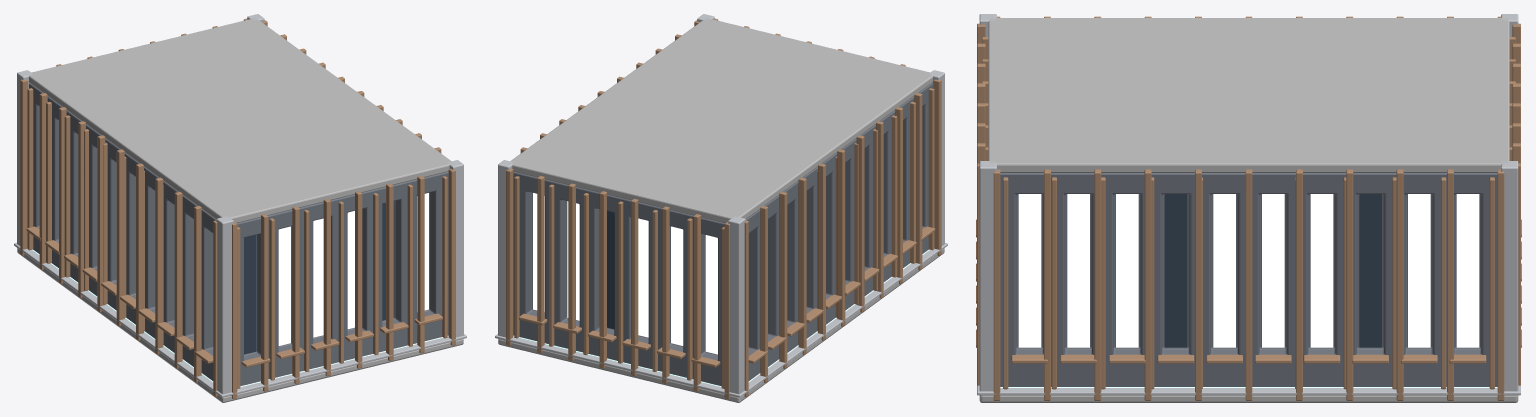
The model's file is deco_4x6.glb.
3 views of the same model, side by side, from view 1: azimuth 30°, elevation 25°; view 2: azimuth 150°, elevation 25°; view 3: azimuth 270°, elevation 25° (orthographic). The views are drawn at different scales.
Parts seen in each view (by area): view 1: int_ceiling, ext_wall, ext_ribs, ext_frames, int_columns, ext_panes_lit, int_slab_edge, int_slab, ext_panes_dark, int_grid; view 2: int_ceiling, ext_wall, ext_ribs, ext_frames, ext_panes_lit, int_columns, int_slab_edge, int_slab, ext_panes_dark, int_grid; view 3: int_ceiling, ext_wall, ext_panes_lit, ext_ribs, ext_frames, int_columns, ext_panes_dark, int_slab, int_slab_edge.
Part boxes in pixels (left/top/right/bottom): int_ceiling: left=29, top=18, right=452, bottom=223; ext_wall: left=29, top=83, right=448, bottom=386; ext_ribs: left=20, top=18, right=455, bottom=399; ext_frames: left=26, top=88, right=447, bottom=388; int_columns: left=17, top=14, right=463, bottom=394; ext_panes_lit: left=278, top=193, right=428, bottom=345; int_slab_edge: left=14, top=243, right=466, bottom=397; int_slab: left=17, top=248, right=463, bottom=402; ext_panes_dark: left=244, top=201, right=394, bottom=354; int_grid: left=32, top=249, right=448, bottom=386; int_ceiling: left=510, top=18, right=932, bottom=223; ext_wall: left=513, top=83, right=932, bottom=386; ext_ribs: left=506, top=18, right=941, bottom=399; ext_frames: left=514, top=88, right=935, bottom=388; ext_panes_lit: left=533, top=193, right=717, bottom=354; int_columns: left=498, top=14, right=944, bottom=394; int_slab_edge: left=495, top=243, right=947, bottom=397; int_slab: left=498, top=248, right=944, bottom=402; ext_panes_dark: left=607, top=211, right=614, bottom=328; int_grid: left=513, top=249, right=929, bottom=386; int_ceiling: left=988, top=18, right=1509, bottom=172; ext_wall: left=1000, top=173, right=1497, bottom=386; ext_panes_lit: left=1018, top=194, right=1479, bottom=347; ext_ribs: left=977, top=16, right=1520, bottom=400; ext_frames: left=976, top=37, right=1521, bottom=389; int_columns: left=979, top=14, right=1518, bottom=391; ext_panes_dark: left=1164, top=194, right=1381, bottom=347; int_slab: left=979, top=395, right=1518, bottom=402; int_slab_edge: left=977, top=385, right=1520, bottom=395.
Size of the model in its own units: 4.28 by 3 by 6.28.
